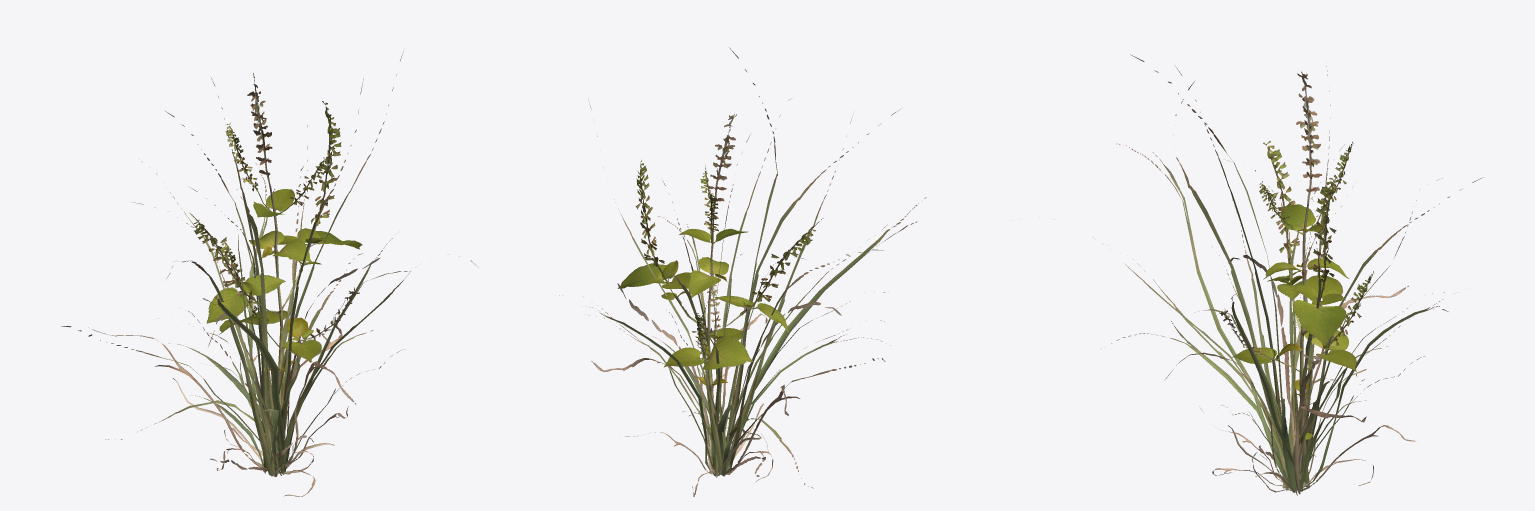
The model's file is natural-bank-desktop-v1.glb.
3 renders of one model, left to right at view 1: azimuth 30°, elevation 25°; view 2: azimuth 150°, elevation 25°; view 3: azimuth 270°, elevation 25°, orthographic. The views are drawn at different scales.
Parts seen in each view (by area): view 1: grass_medium_02_e, shrub_03_b; view 2: grass_medium_02_e, shrub_03_b; view 3: grass_medium_02_e, shrub_03_b.
Boxes of the visible parts, bbox=[...] form: grass_medium_02_e: bbox=[61, 51, 478, 496]; shrub_03_b: bbox=[189, 73, 362, 435]; grass_medium_02_e: bbox=[559, 47, 926, 496]; shrub_03_b: bbox=[617, 114, 823, 472]; grass_medium_02_e: bbox=[1093, 54, 1483, 495]; shrub_03_b: bbox=[1219, 71, 1374, 474].
Size of the model in its own units: 0.3556 by 0.4032 by 0.4332.
2 materials, 2 textured.
